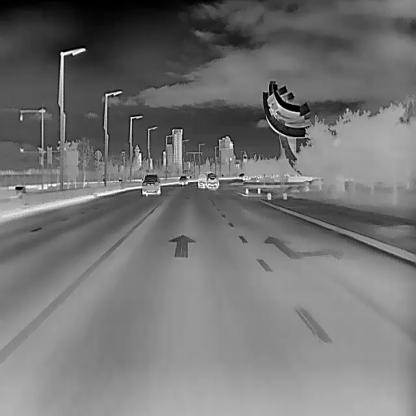car: (140, 172, 162, 195), (205, 172, 219, 190), (197, 172, 209, 188), (178, 174, 186, 184)
